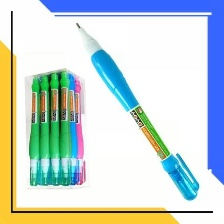correction_fluid: (73, 19, 202, 202), (70, 78, 87, 185), (47, 71, 62, 187), (27, 75, 42, 187), (57, 71, 70, 187), (38, 73, 51, 188), (67, 73, 80, 186)
plastic_box: (20, 66, 92, 191)
